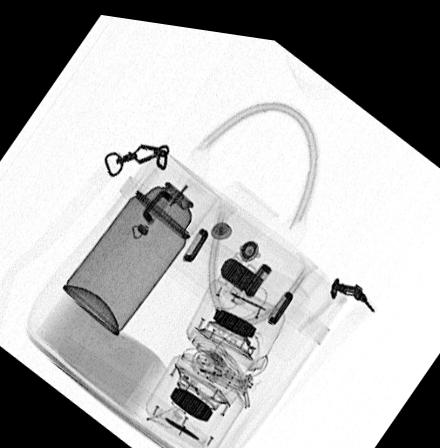Sprayer: (60, 144, 220, 333)
